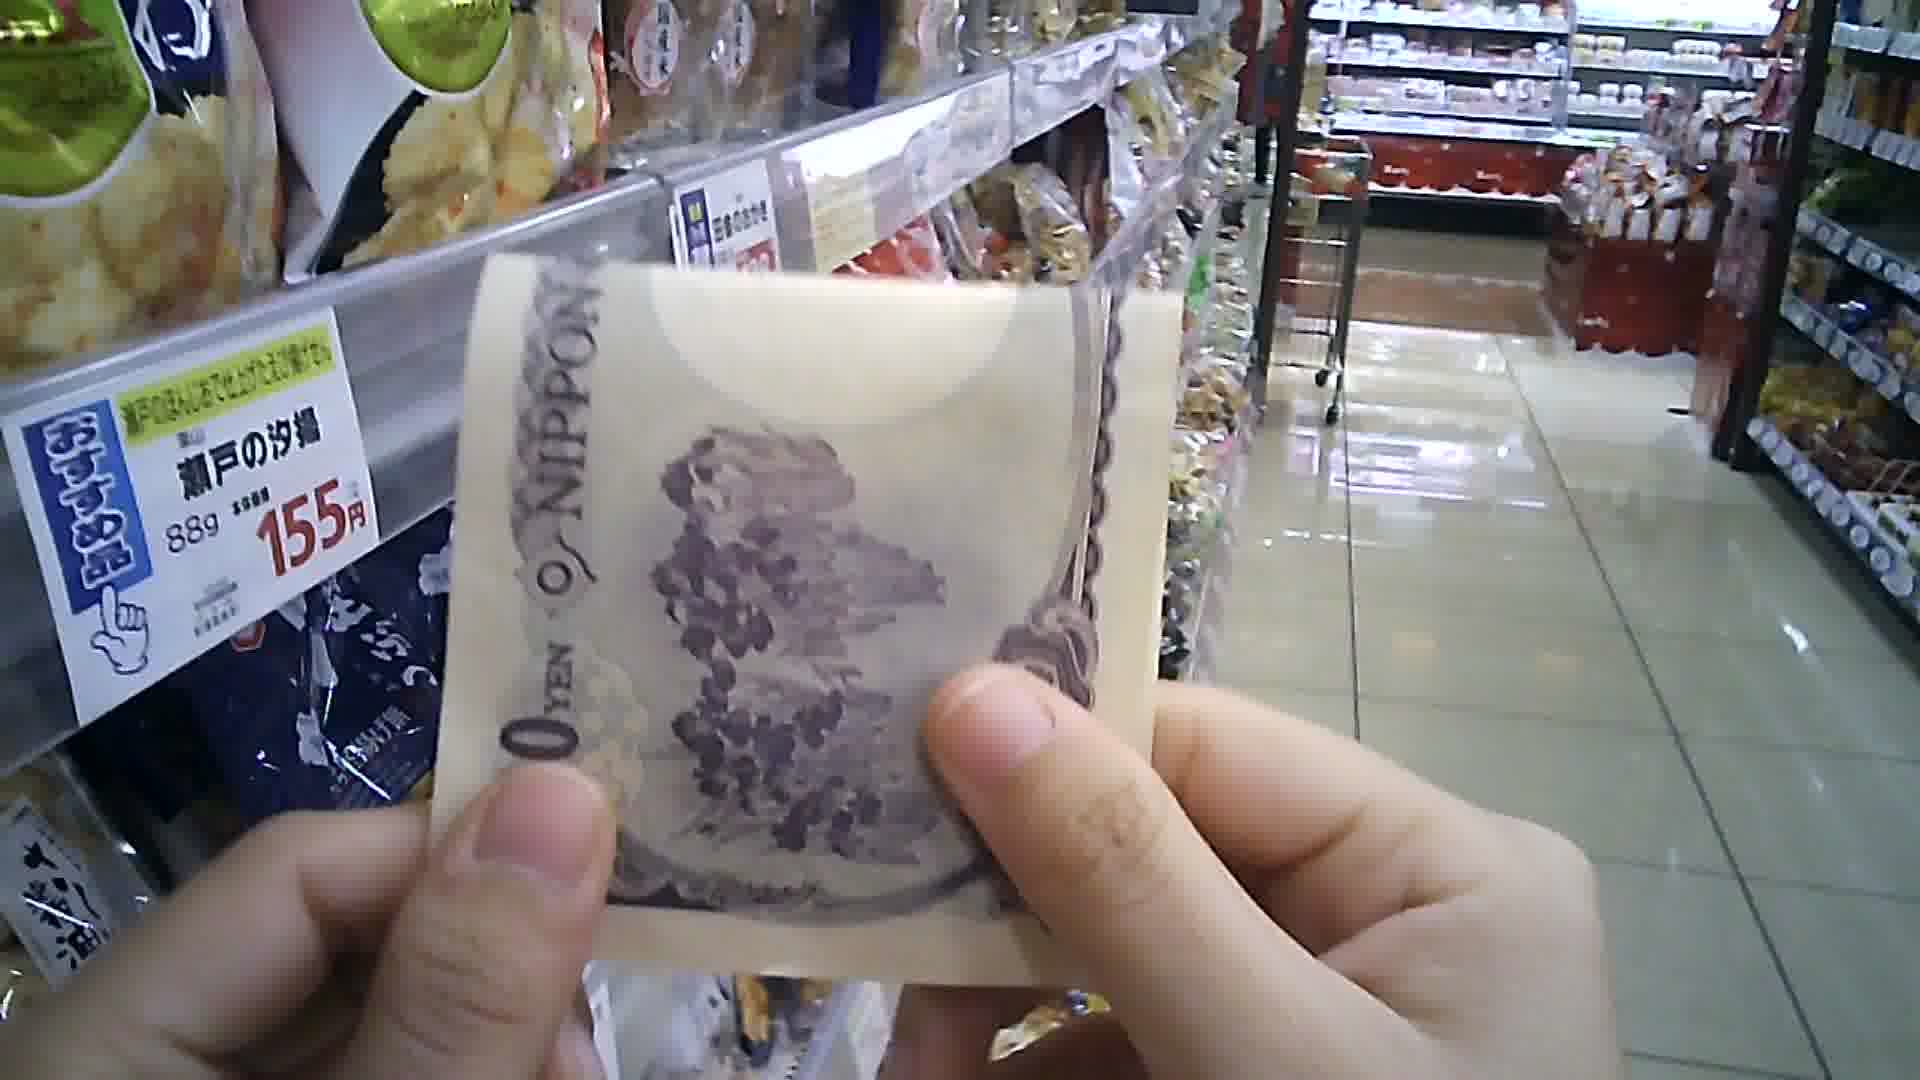5,000 Yen: (426, 237, 1185, 982)
